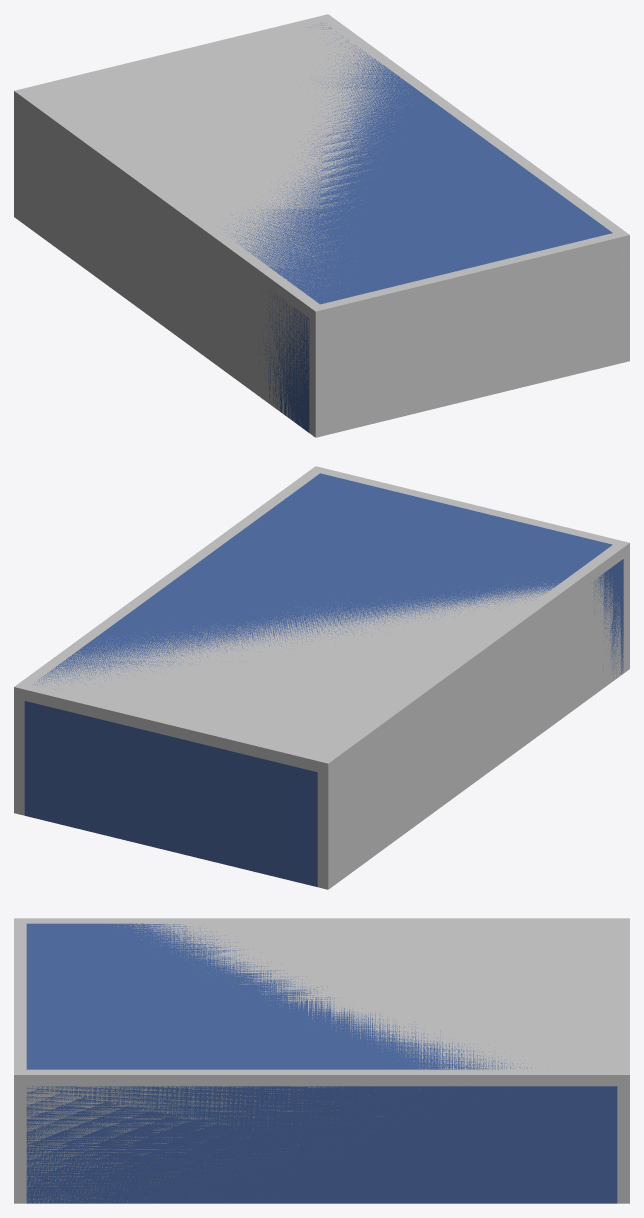
The model's file is SM_Building_13_Base.fbx.
3 renders of one model, top to bottom at view 1: azimuth 30°, elevation 25°; view 2: azimuth 150°, elevation 25°; view 3: azimuth 270°, elevation 25°, orthographic. The views are drawn at different scales.
Visible parts, largest first — view 1: SM_Building_13_Base_ConvexHulls, SM_Building_13_Base; view 2: SM_Building_13_Base_ConvexHulls, SM_Building_13_Base; view 3: SM_Building_13_Base, SM_Building_13_Base_ConvexHulls.
Part boxes in pixels (bbox=[...]): SM_Building_13_Base_ConvexHulls: bbox=[14, 14, 629, 437]; SM_Building_13_Base: bbox=[224, 22, 617, 432]; SM_Building_13_Base_ConvexHulls: bbox=[14, 466, 629, 889]; SM_Building_13_Base: bbox=[24, 473, 623, 886]; SM_Building_13_Base: bbox=[26, 923, 617, 1203]; SM_Building_13_Base_ConvexHulls: bbox=[14, 918, 629, 1203].
Size of the model in its own units: 782 by 1300 by 300.
2 materials, 1 textured.
